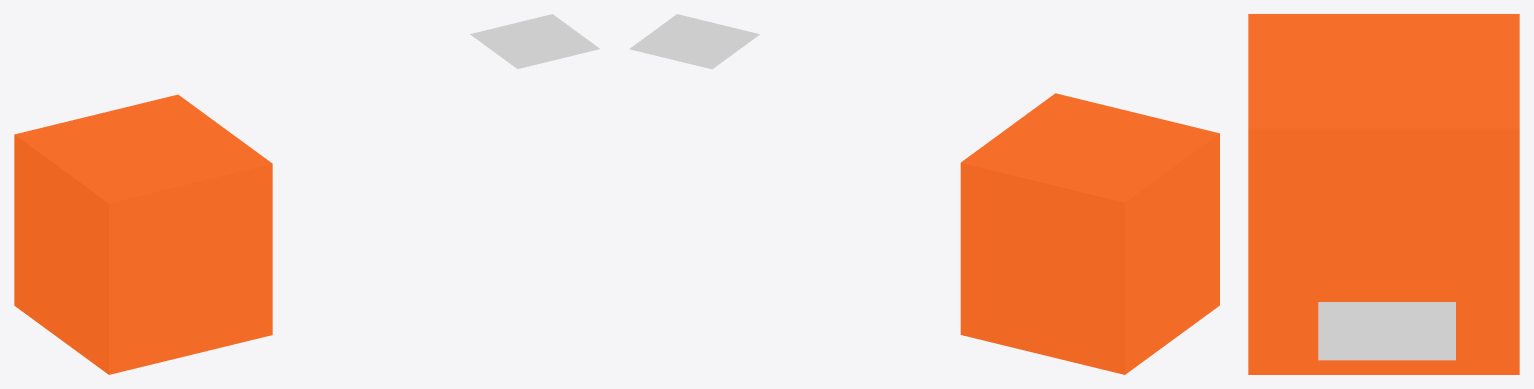
The model's file is fire-poc.glb.
3 renders of one model, left to right at view 1: azimuth 30°, elevation 25°; view 2: azimuth 150°, elevation 25°; view 3: azimuth 270°, elevation 25°, orthographic. The views are drawn at different scales.
Visible parts, largest first — view 1: Cube, Plane; view 2: Cube, Plane; view 3: Cube, Plane.
Boxes of the visible parts, x1,y1,x2,y2 form: Cube: [14, 94, 272, 374]; Plane: [470, 14, 599, 68]; Cube: [960, 93, 1219, 374]; Plane: [629, 14, 759, 69]; Cube: [1248, 14, 1519, 374]; Plane: [1318, 302, 1455, 360].
Bounding box in the file's own units: 6.3 × 2.13 × 2.
